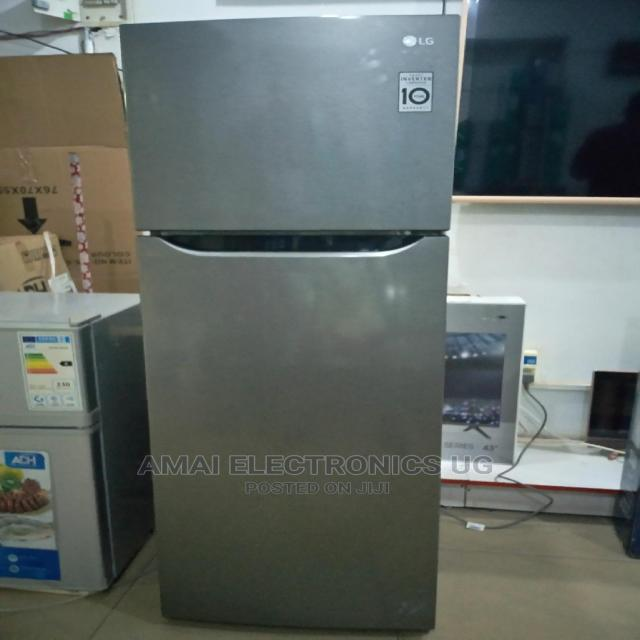refrigerator: (120, 11, 463, 633), (0, 304, 154, 601)
